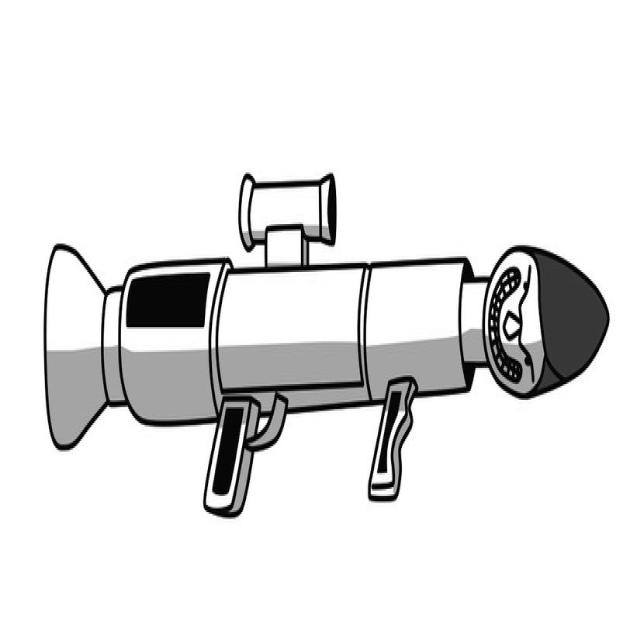Lancher: (45, 159, 610, 547)
